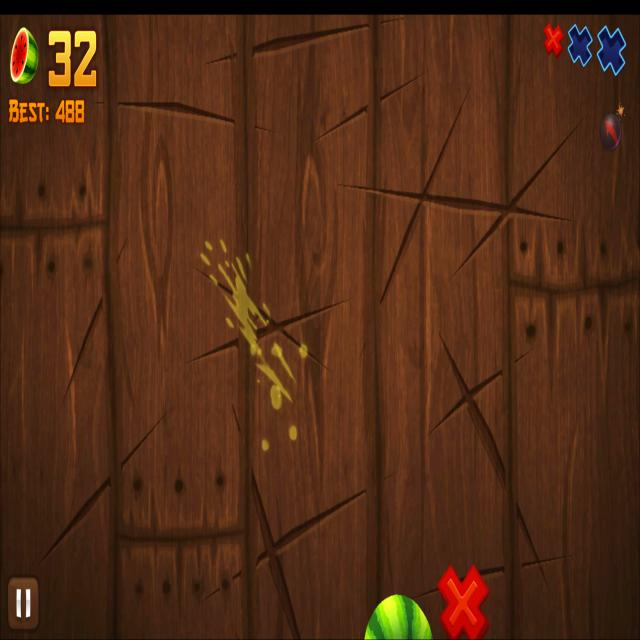fruit: (364, 592, 432, 640)
